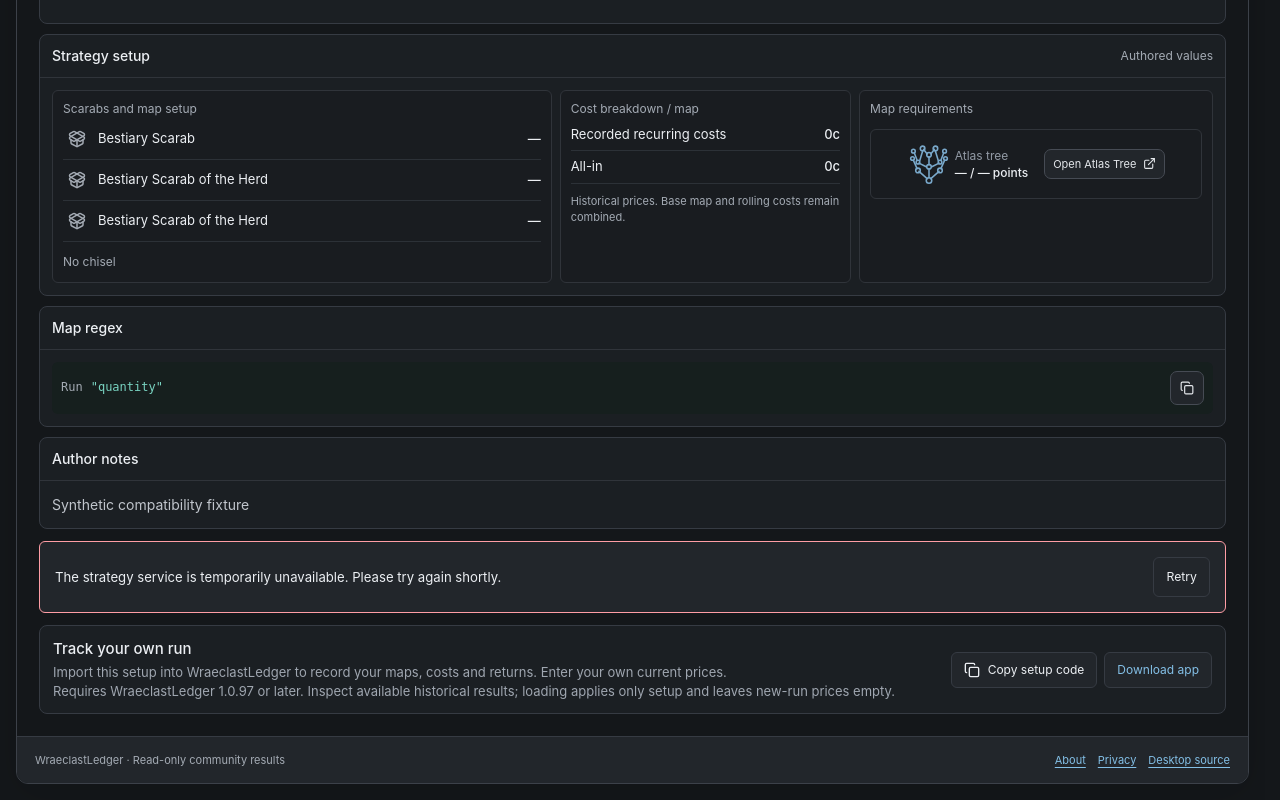
it: copies only safe setup/history for unavailable evidence
(page scrolled)
Click the button "Copy setup code" at (1024, 670), box top-left (951, 652), bottom-right (1097, 688)
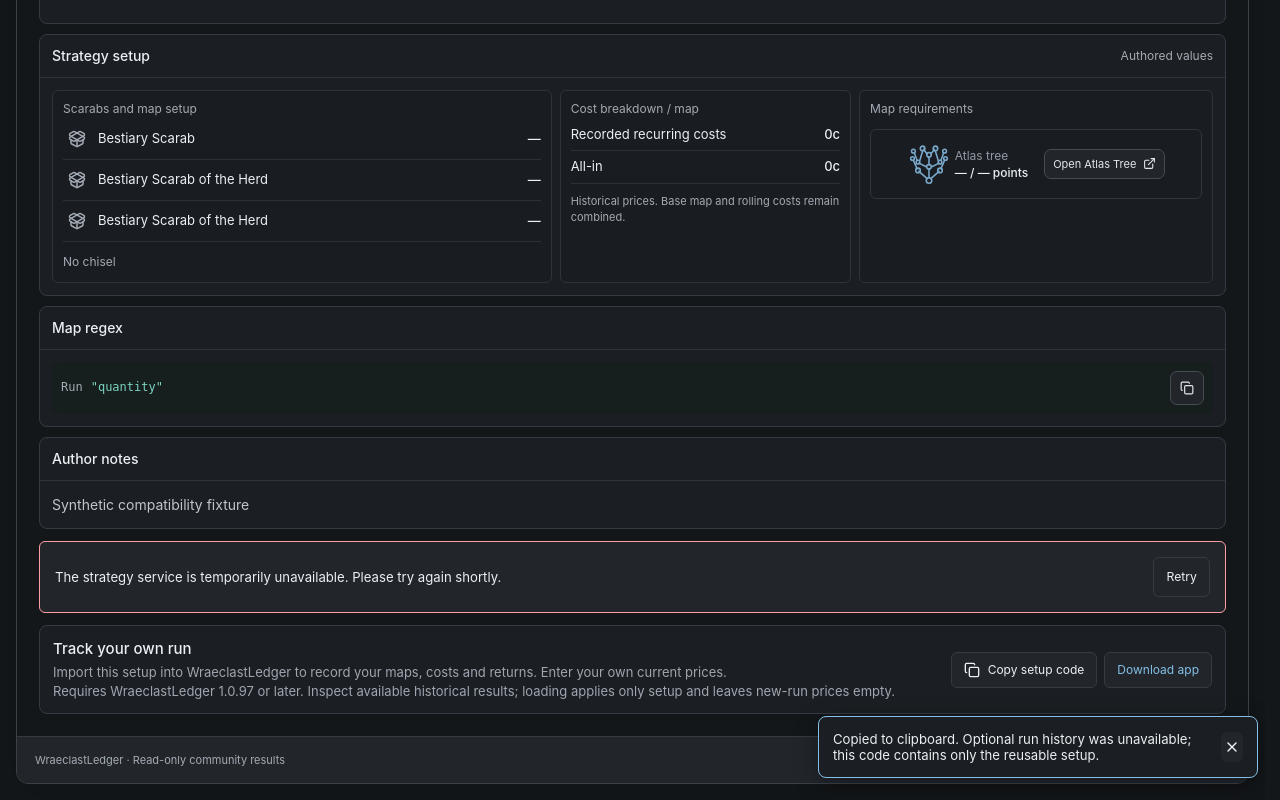
Expected: the text "Optional run history was unavailable" is shown, top-left (833, 731), bottom-right (1192, 763)
